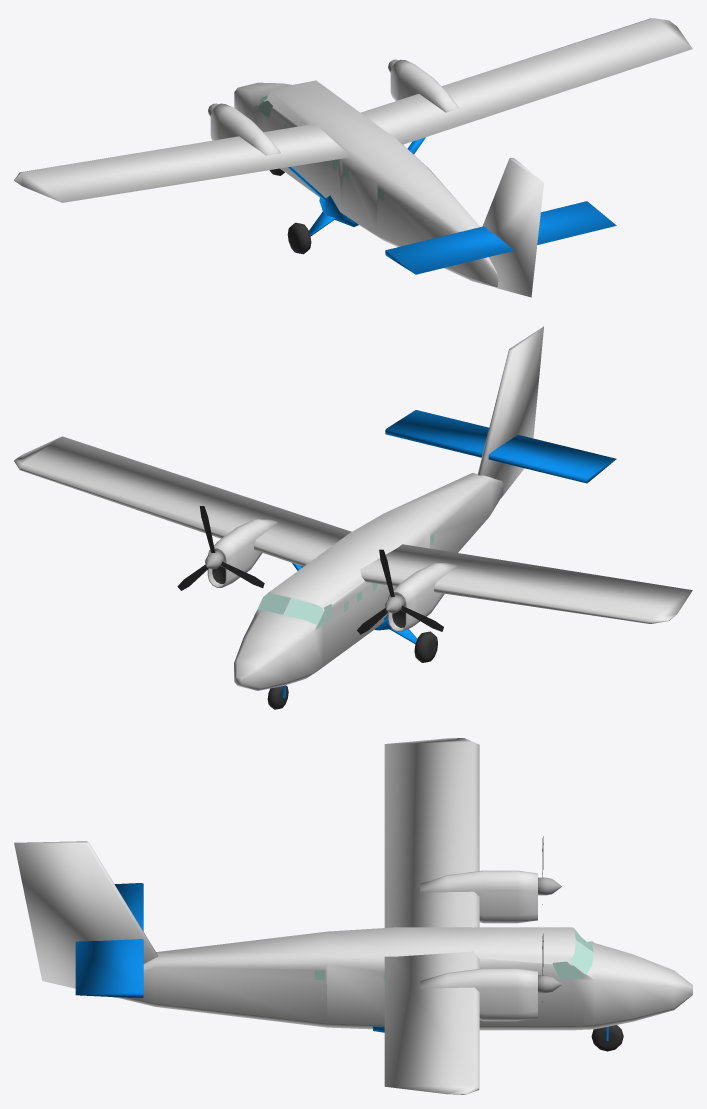
The model's file is the_simpliest_blender_game_flight_simulator.glb.
3 views of the same model, one above another, from view 1: azimuth 30°, elevation 25°; view 2: azimuth 150°, elevation 25°; view 3: azimuth 270°, elevation 25° (orthographic). The views are drawn at different scales.
Visible parts, largest first — view 1: fus; view 2: fus, prop.001, prop; view 3: fus.
Part boxes in pixels (x1=…): fus: x1=14, y1=18, x2=692, y2=297; fus: x1=14, y1=326, x2=692, y2=709; prop.001: x1=357, y1=549, x2=443, y2=634; prop: x1=177, y1=506, x2=264, y2=590; fus: x1=14, y1=738, x2=692, y2=1094.
Size of the model in its own units: 20.84 by 5.71 by 16.81.
